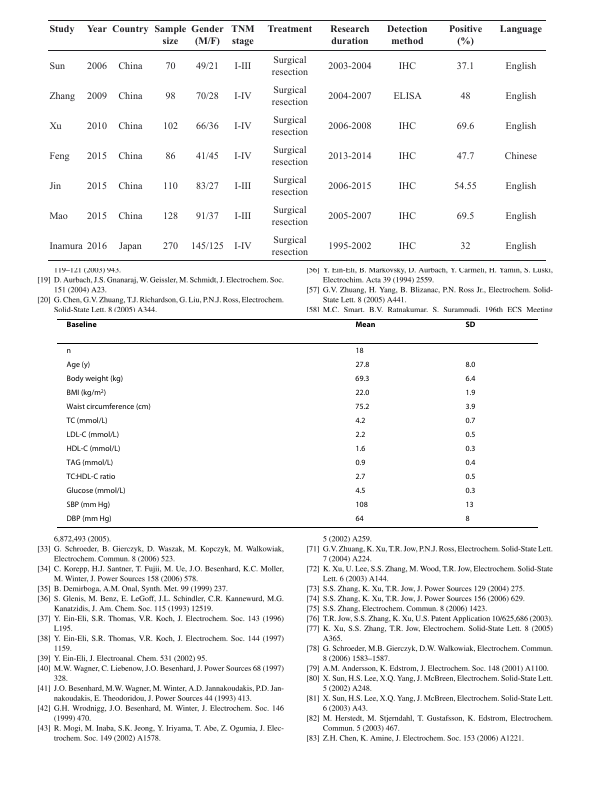borderless: (47, 19, 546, 260), (56, 317, 538, 527)
cell: (386, 25, 428, 48), (329, 25, 370, 48), (270, 85, 309, 109), (270, 56, 309, 79), (270, 115, 309, 138), (270, 145, 309, 168), (270, 175, 309, 198), (270, 205, 309, 228), (270, 235, 309, 258), (66, 402, 152, 412), (448, 25, 483, 48), (153, 25, 187, 48), (190, 25, 224, 48), (66, 486, 127, 496), (66, 374, 124, 384), (230, 25, 255, 48), (66, 444, 121, 454), (66, 430, 120, 440), (327, 91, 372, 103), (266, 25, 313, 36), (66, 472, 116, 482), (498, 25, 543, 36), (327, 62, 372, 73), (327, 121, 372, 132), (327, 151, 372, 162), (327, 181, 372, 192), (327, 211, 372, 222), (327, 241, 372, 252), (66, 458, 114, 468), (66, 514, 112, 524), (66, 500, 111, 510), (66, 416, 108, 426), (111, 25, 149, 36), (66, 388, 107, 398), (504, 91, 537, 103), (503, 151, 538, 162), (48, 241, 83, 252), (190, 241, 224, 252), (504, 62, 537, 73), (504, 121, 537, 132), (504, 181, 537, 192), (504, 211, 537, 222), (504, 241, 537, 252), (392, 91, 422, 103), (48, 91, 76, 103), (117, 91, 143, 103), (48, 25, 75, 36), (195, 91, 219, 103), (117, 62, 143, 73), (117, 121, 143, 132), (117, 151, 143, 162), (117, 181, 143, 192), (117, 211, 143, 222), (195, 62, 219, 73), (86, 91, 108, 103), (195, 121, 219, 132), (195, 151, 219, 162), (195, 181, 219, 192), (453, 181, 477, 192), (195, 211, 219, 222), (118, 241, 142, 252), (66, 320, 98, 328), (66, 360, 91, 370), (86, 25, 108, 36), (85, 62, 107, 73), (85, 121, 107, 132), (48, 151, 70, 162), (86, 151, 108, 162), (86, 181, 108, 192), (86, 211, 108, 222), (86, 241, 108, 252), (233, 91, 252, 103), (397, 62, 417, 73), (455, 62, 475, 73), (397, 121, 417, 132), (455, 121, 475, 132), (397, 151, 417, 162), (455, 151, 475, 162), (397, 181, 417, 192), (48, 211, 68, 222), (397, 211, 417, 222), (455, 211, 475, 222), (397, 241, 417, 252), (233, 62, 252, 73), (233, 121, 252, 132), (233, 151, 252, 162), (233, 181, 252, 192), (233, 211, 252, 222), (233, 241, 252, 252), (48, 62, 66, 73), (162, 121, 179, 132), (162, 211, 179, 222), (162, 241, 179, 252), (354, 320, 376, 328), (162, 181, 178, 192), (354, 360, 370, 370), (354, 374, 370, 384), (354, 388, 370, 398), (354, 402, 370, 412), (48, 121, 62, 132), (48, 181, 62, 192), (354, 500, 369, 510), (164, 91, 176, 103), (459, 91, 471, 103), (164, 62, 176, 73), (164, 151, 176, 162), (459, 241, 471, 252), (464, 360, 476, 370), (464, 374, 476, 384), (464, 388, 476, 398), (464, 402, 476, 412), (354, 416, 366, 426), (464, 416, 476, 426), (354, 430, 366, 440), (464, 430, 476, 440), (354, 444, 366, 454), (464, 444, 476, 454), (354, 458, 366, 468), (464, 458, 476, 468), (354, 472, 366, 482), (464, 472, 476, 482), (354, 486, 366, 496), (354, 346, 365, 356), (465, 486, 476, 496), (464, 500, 475, 510), (354, 514, 365, 524), (464, 320, 476, 328), (464, 514, 471, 524), (66, 346, 72, 356)
